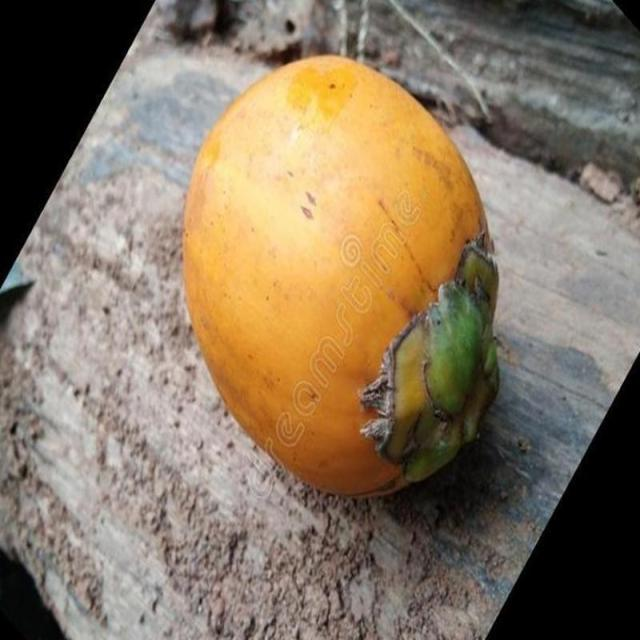good: (181, 57, 502, 500)
